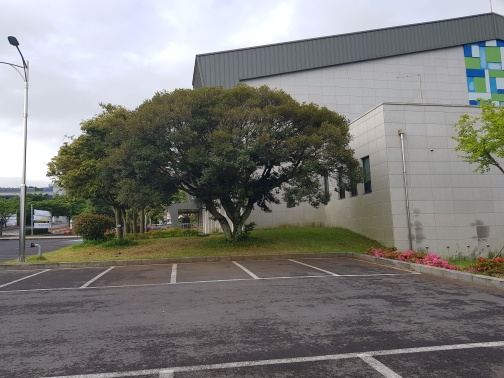Gym: (179, 13, 499, 259)
